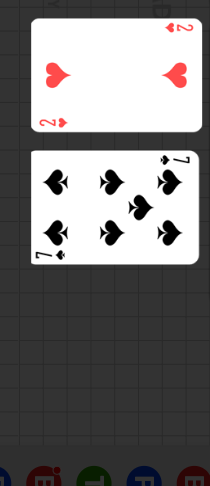2H: (38, 115, 70, 128)
7S: (34, 248, 67, 261)
